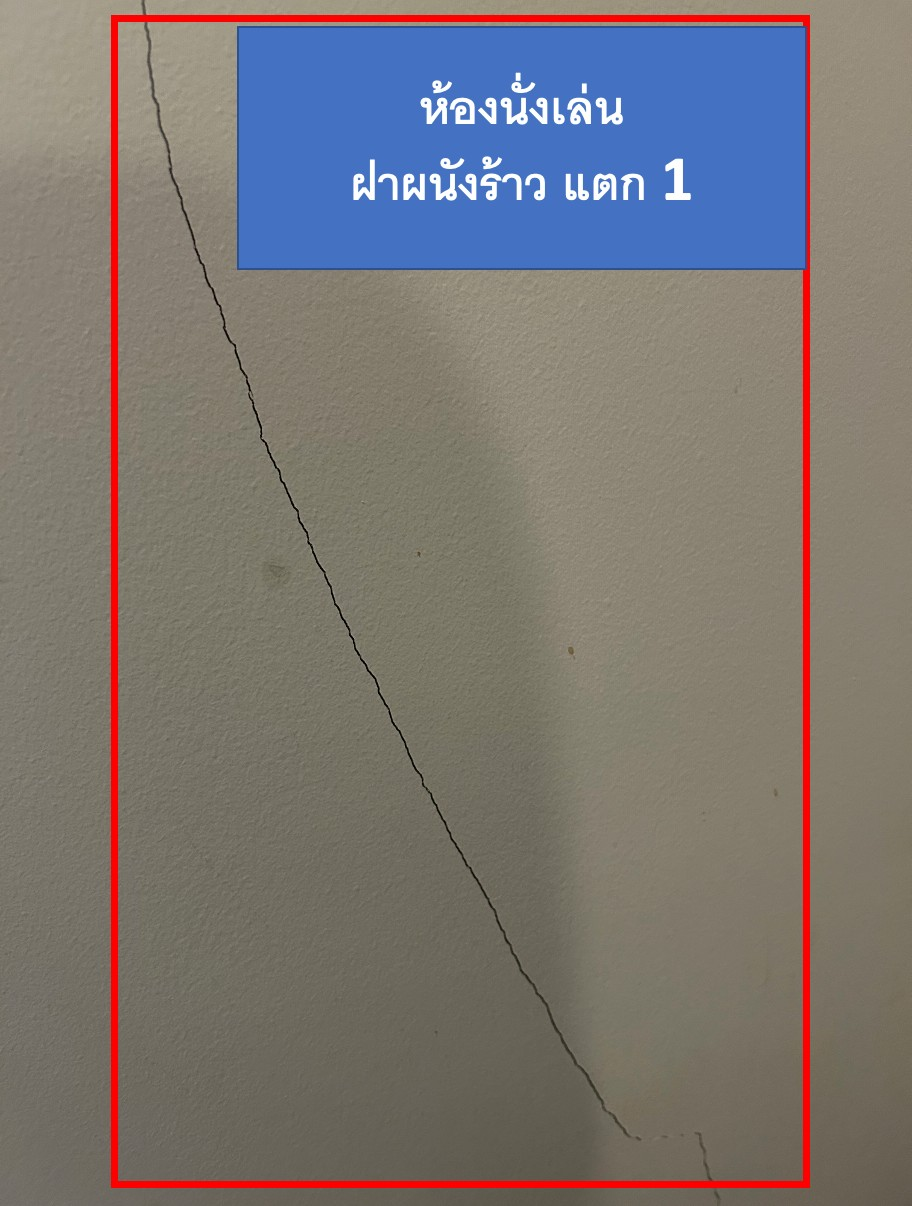Low: (213, 311, 728, 1170)
